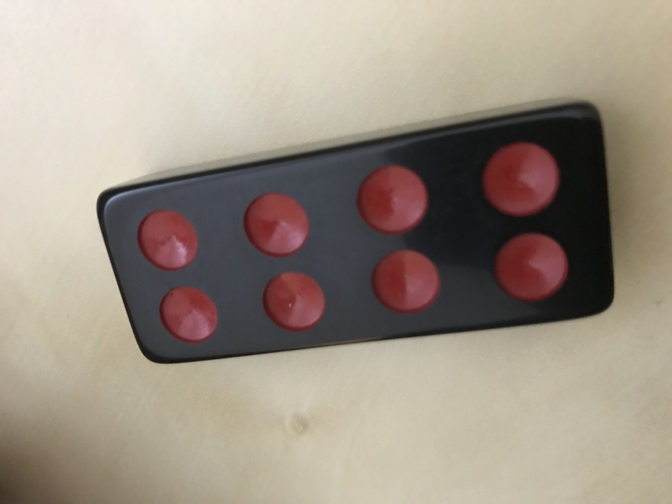man: (94, 98, 615, 364)
